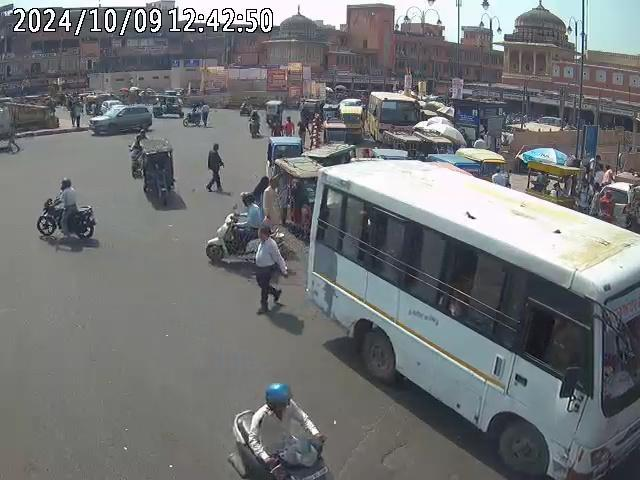auto: (128, 133, 176, 206), (265, 135, 302, 170), (153, 92, 183, 117), (299, 98, 323, 128), (263, 99, 283, 132)
bus: (306, 157, 640, 480), (368, 90, 421, 138)
car: (595, 180, 638, 229), (88, 104, 153, 136)
helmet: (263, 381, 294, 410), (238, 191, 257, 208), (58, 177, 72, 189)
motorbike-rider: (37, 177, 97, 247)
person: (248, 223, 289, 316), (206, 144, 225, 192), (68, 100, 83, 129)
scooty-rider: (229, 380, 330, 479), (205, 190, 264, 265)
vendor: (525, 156, 584, 210)
